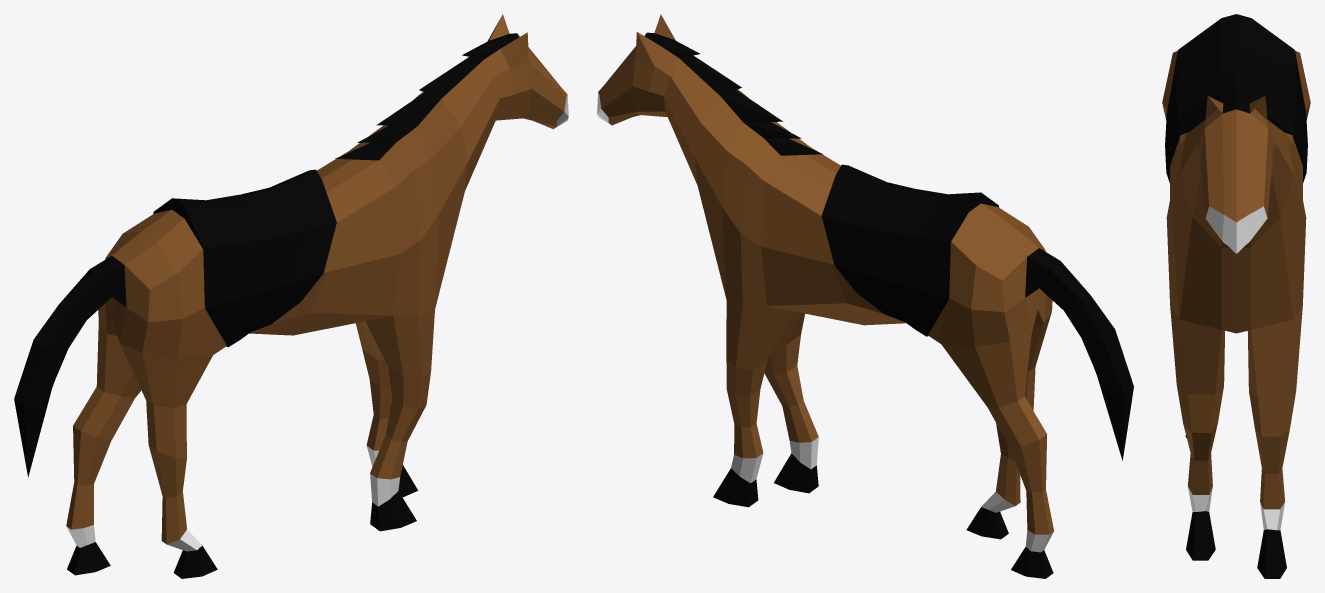
The model's file is caballo.obj.
3 views of the same model, side by side, from view 1: azimuth 30°, elevation 25°; view 2: azimuth 150°, elevation 25°; view 3: azimuth 270°, elevation 25° (orthographic). The views are drawn at different scales.
Visible parts, largest first — view 1: Horse; view 2: Horse; view 3: Horse.
Boxes of the visible parts, x1,y1,x2,y2 form: Horse: (14,14,568,578); Horse: (597,14,1133,578); Horse: (1162,14,1310,578).
Bounding box in the file's own units: 5.66 × 4.45 × 1.13.
